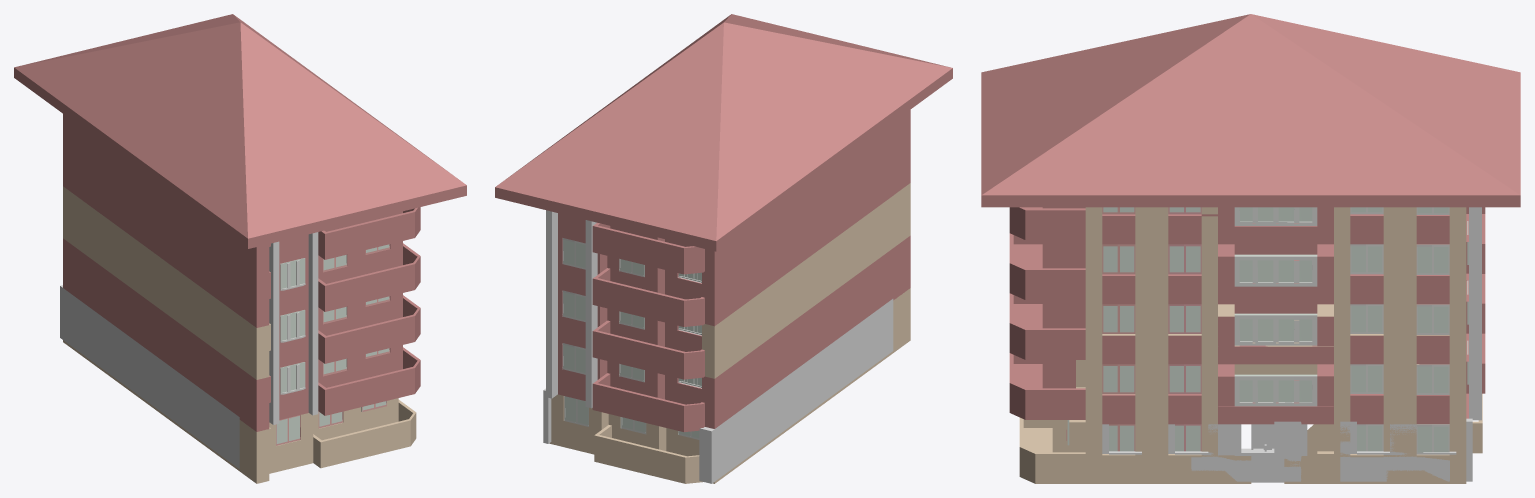
File: HouseFbx.fbx
The picture shows the model from 3 angles, left to right: view 1: azimuth 30°, elevation 25°; view 2: azimuth 150°, elevation 25°; view 3: azimuth 270°, elevation 25°; orthographic projection. The views are drawn at different scales.
Parts seen in each view (by area): view 1: Cube, firstkat.002, firstkat.003, firstkat, bottom_front, bottomright.000, salonkat, salonkat.002, salonkat.001, firstkat.004, salonkat.003, firstkat.001 (+6 smaller); view 2: Cube, firstkat.003, firstkat.002, bottom_front, firstkat, bottomleft.000, bottomleft.003, bottomleft.002, bottomleft.001, firstkat.004, bottomleft.004, Cube.003 (+6 smaller); view 3: Cube, firstkat.002, firstkat, firstkat.003, firstkat.001, firstkat.004, bottom_front, salonkat, salonkat.002, salonkat.001, bottomright.000, Cube.003 (+25 smaller).
Boxes of the visible parts, box(x1,y1,x2,y2) form: Cube: box(14, 14, 466, 248); firstkat.002: box(63, 186, 270, 379); firstkat.003: box(63, 134, 270, 327); firstkat: box(63, 238, 270, 431); bottom_front: box(60, 285, 239, 468); bottomright.000: box(269, 398, 416, 473); salonkat: box(279, 345, 420, 419); salonkat.002: box(279, 241, 420, 315); salonkat.001: box(279, 293, 420, 367); firstkat.004: box(63, 114, 270, 275); salonkat.003: box(279, 207, 420, 263); firstkat.001: box(63, 340, 270, 483); Cube: box(495, 14, 952, 251); firstkat.003: box(702, 130, 910, 326); firstkat.002: box(702, 183, 910, 378); bottom_front: box(543, 299, 893, 483); firstkat: box(702, 235, 910, 428); bottomleft.000: box(551, 394, 702, 483); bottomleft.003: box(558, 236, 704, 326); bottomleft.002: box(558, 289, 704, 379); bottomleft.001: box(558, 342, 704, 432); firstkat.004: box(705, 110, 910, 273); bottomleft.004: box(558, 213, 704, 274); Cube.003: box(546, 210, 557, 398); Cube: box(981, 14, 1520, 207); firstkat.002: box(1076, 240, 1466, 364); firstkat: box(1076, 300, 1466, 424); firstkat.003: box(1076, 207, 1466, 304); firstkat.001: box(1076, 360, 1466, 483); firstkat.004: box(1085, 207, 1466, 244); bottom_front: box(1102, 418, 1472, 481); salonkat: box(1009, 353, 1085, 419); salonkat.002: box(1009, 233, 1085, 299); salonkat.001: box(1009, 293, 1085, 359); bottomright.000: box(1019, 387, 1085, 483); Cube.003: box(1469, 207, 1481, 420).
Bounding box in the file's own units: 4402 × 7065 × 8152.
